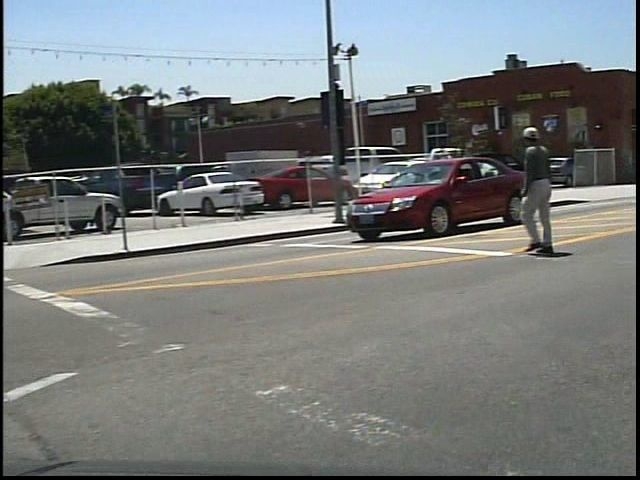person: (517, 115, 577, 262)
